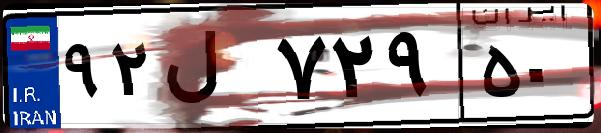0: (525, 38, 570, 115)
2: (330, 28, 385, 110), (110, 28, 158, 98)
5: (475, 38, 525, 113)
7: (270, 28, 330, 110)
9: (385, 28, 445, 110), (57, 26, 110, 100)
ل: (158, 20, 270, 120)
